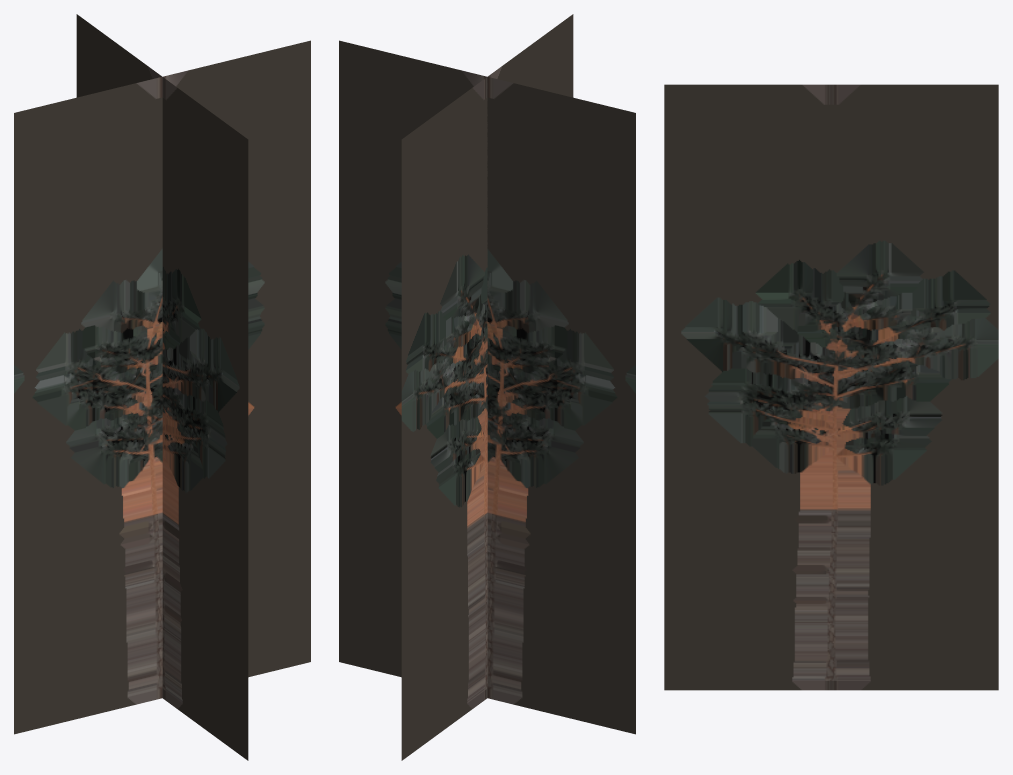
File: pine_b_LOD2_billboard.glb
3 renders of one model, left to right at view 1: azimuth 30°, elevation 25°; view 2: azimuth 150°, elevation 25°; view 3: azimuth 270°, elevation 25°, orthographic. The views are drawn at different scales.
Visible parts, largest first — view 1: Pine_B_LOD2_Billboard; view 2: Pine_B_LOD2_Billboard; view 3: Pine_B_LOD2_Billboard.
Boxes of the visible parts, bbox=[...] form: Pine_B_LOD2_Billboard: bbox=[14, 14, 310, 760]; Pine_B_LOD2_Billboard: bbox=[339, 14, 635, 760]; Pine_B_LOD2_Billboard: bbox=[664, 84, 998, 690].
Bounding box in the file's own units: 12.87 × 25.74 × 12.87.
1 material, 1 textured.
